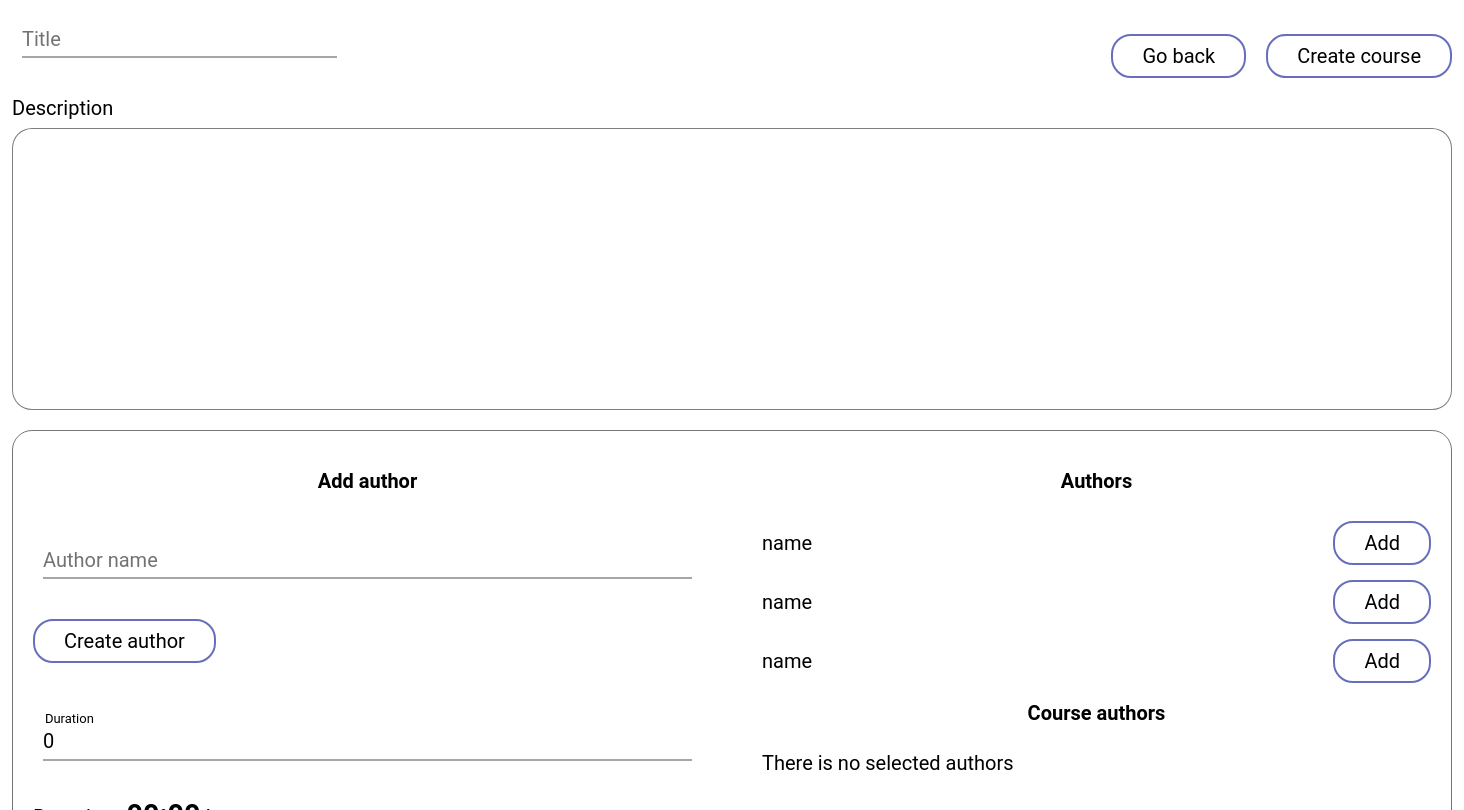
Test case: Course form component › Course form component for creation › should add author to selected
Click the 1st button with test id "author_to_select-button".
click(1382, 543)  # box [1333,521,1431,565]
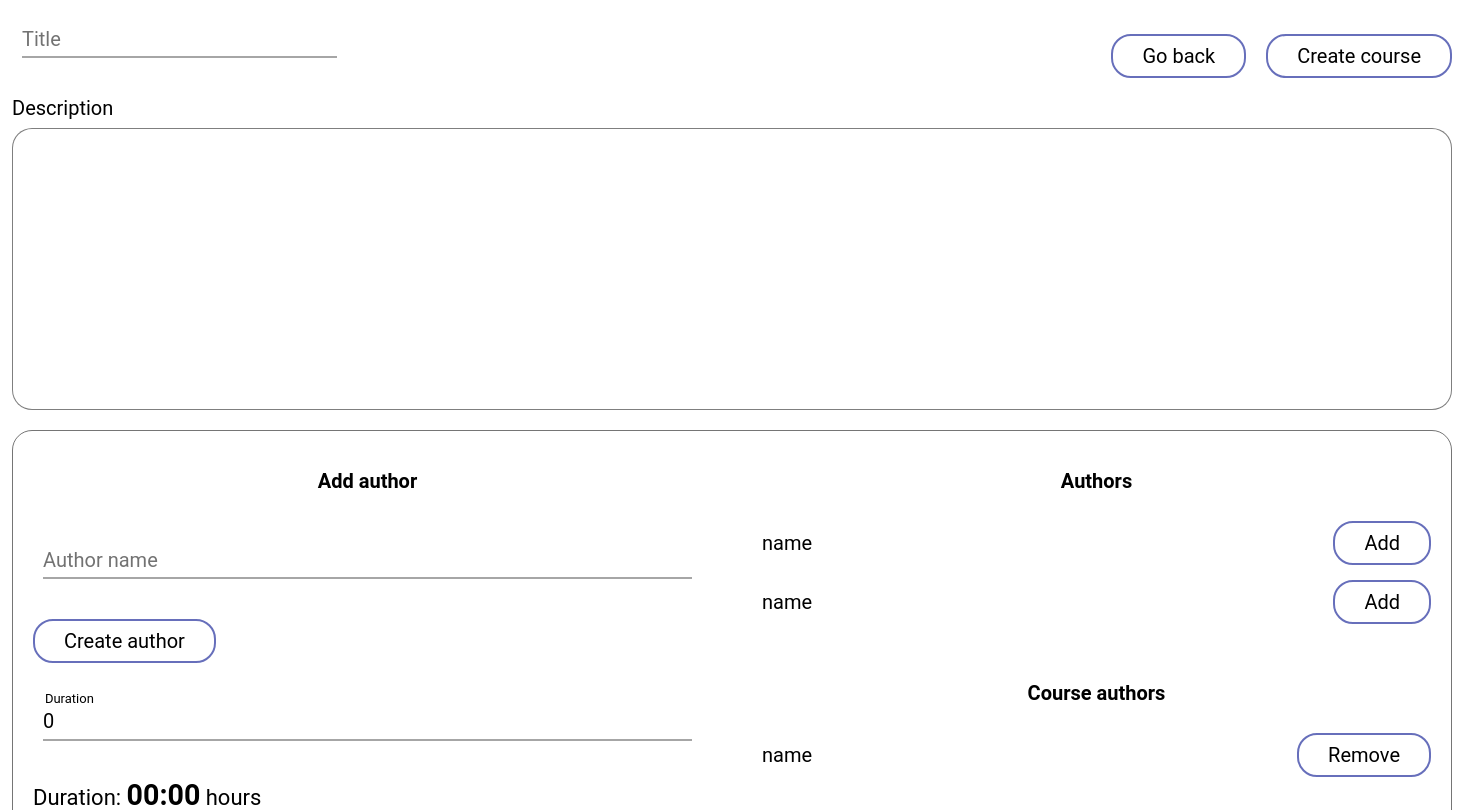
Expected: the element with test id "author_selected" is shown, [762,733,1431,777]
